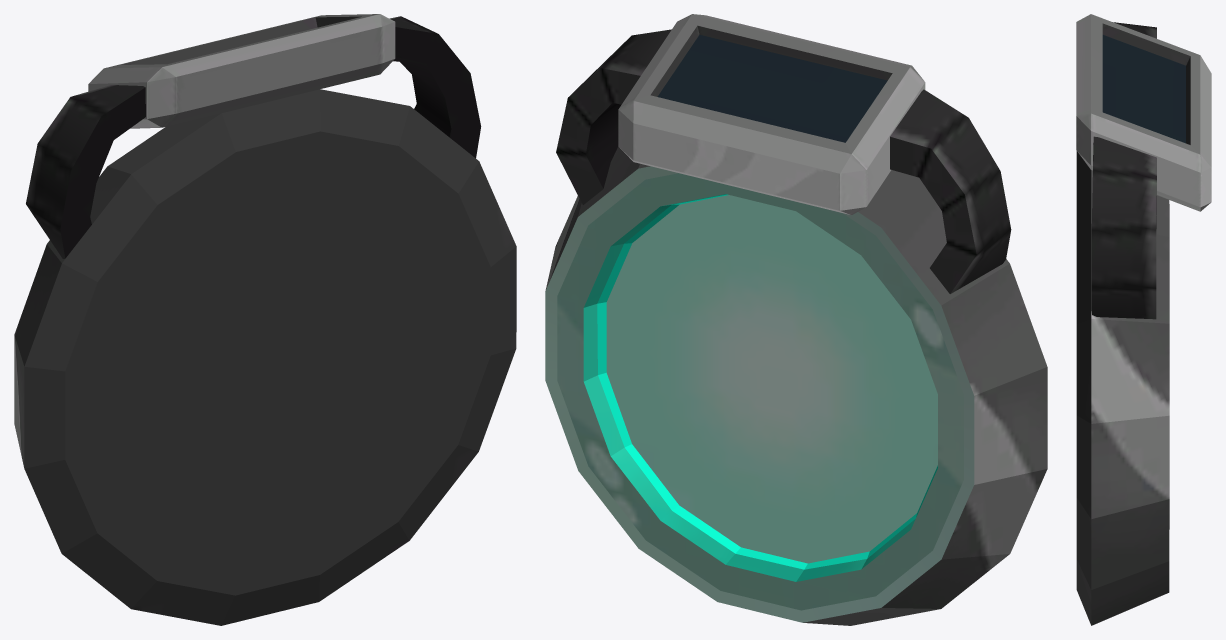
The model's file is TeleportPads.fbx.
The picture shows the model from 3 angles, left to right: view 1: azimuth 30°, elevation 25°; view 2: azimuth 150°, elevation 25°; view 3: azimuth 270°, elevation 25°; orthographic projection. The views are drawn at different scales.
Visible parts, largest first — view 1: WarpPad; view 2: WarpPad; view 3: WarpPad.
Part boxes in pixels (x1=…): WarpPad: x1=14, y1=14, x2=516, y2=625; WarpPad: x1=545, y1=14, x2=1047, y2=625; WarpPad: x1=1076, y1=14, x2=1211, y2=625.
Size of the model in its own units: 121 by 135 by 30.87.
